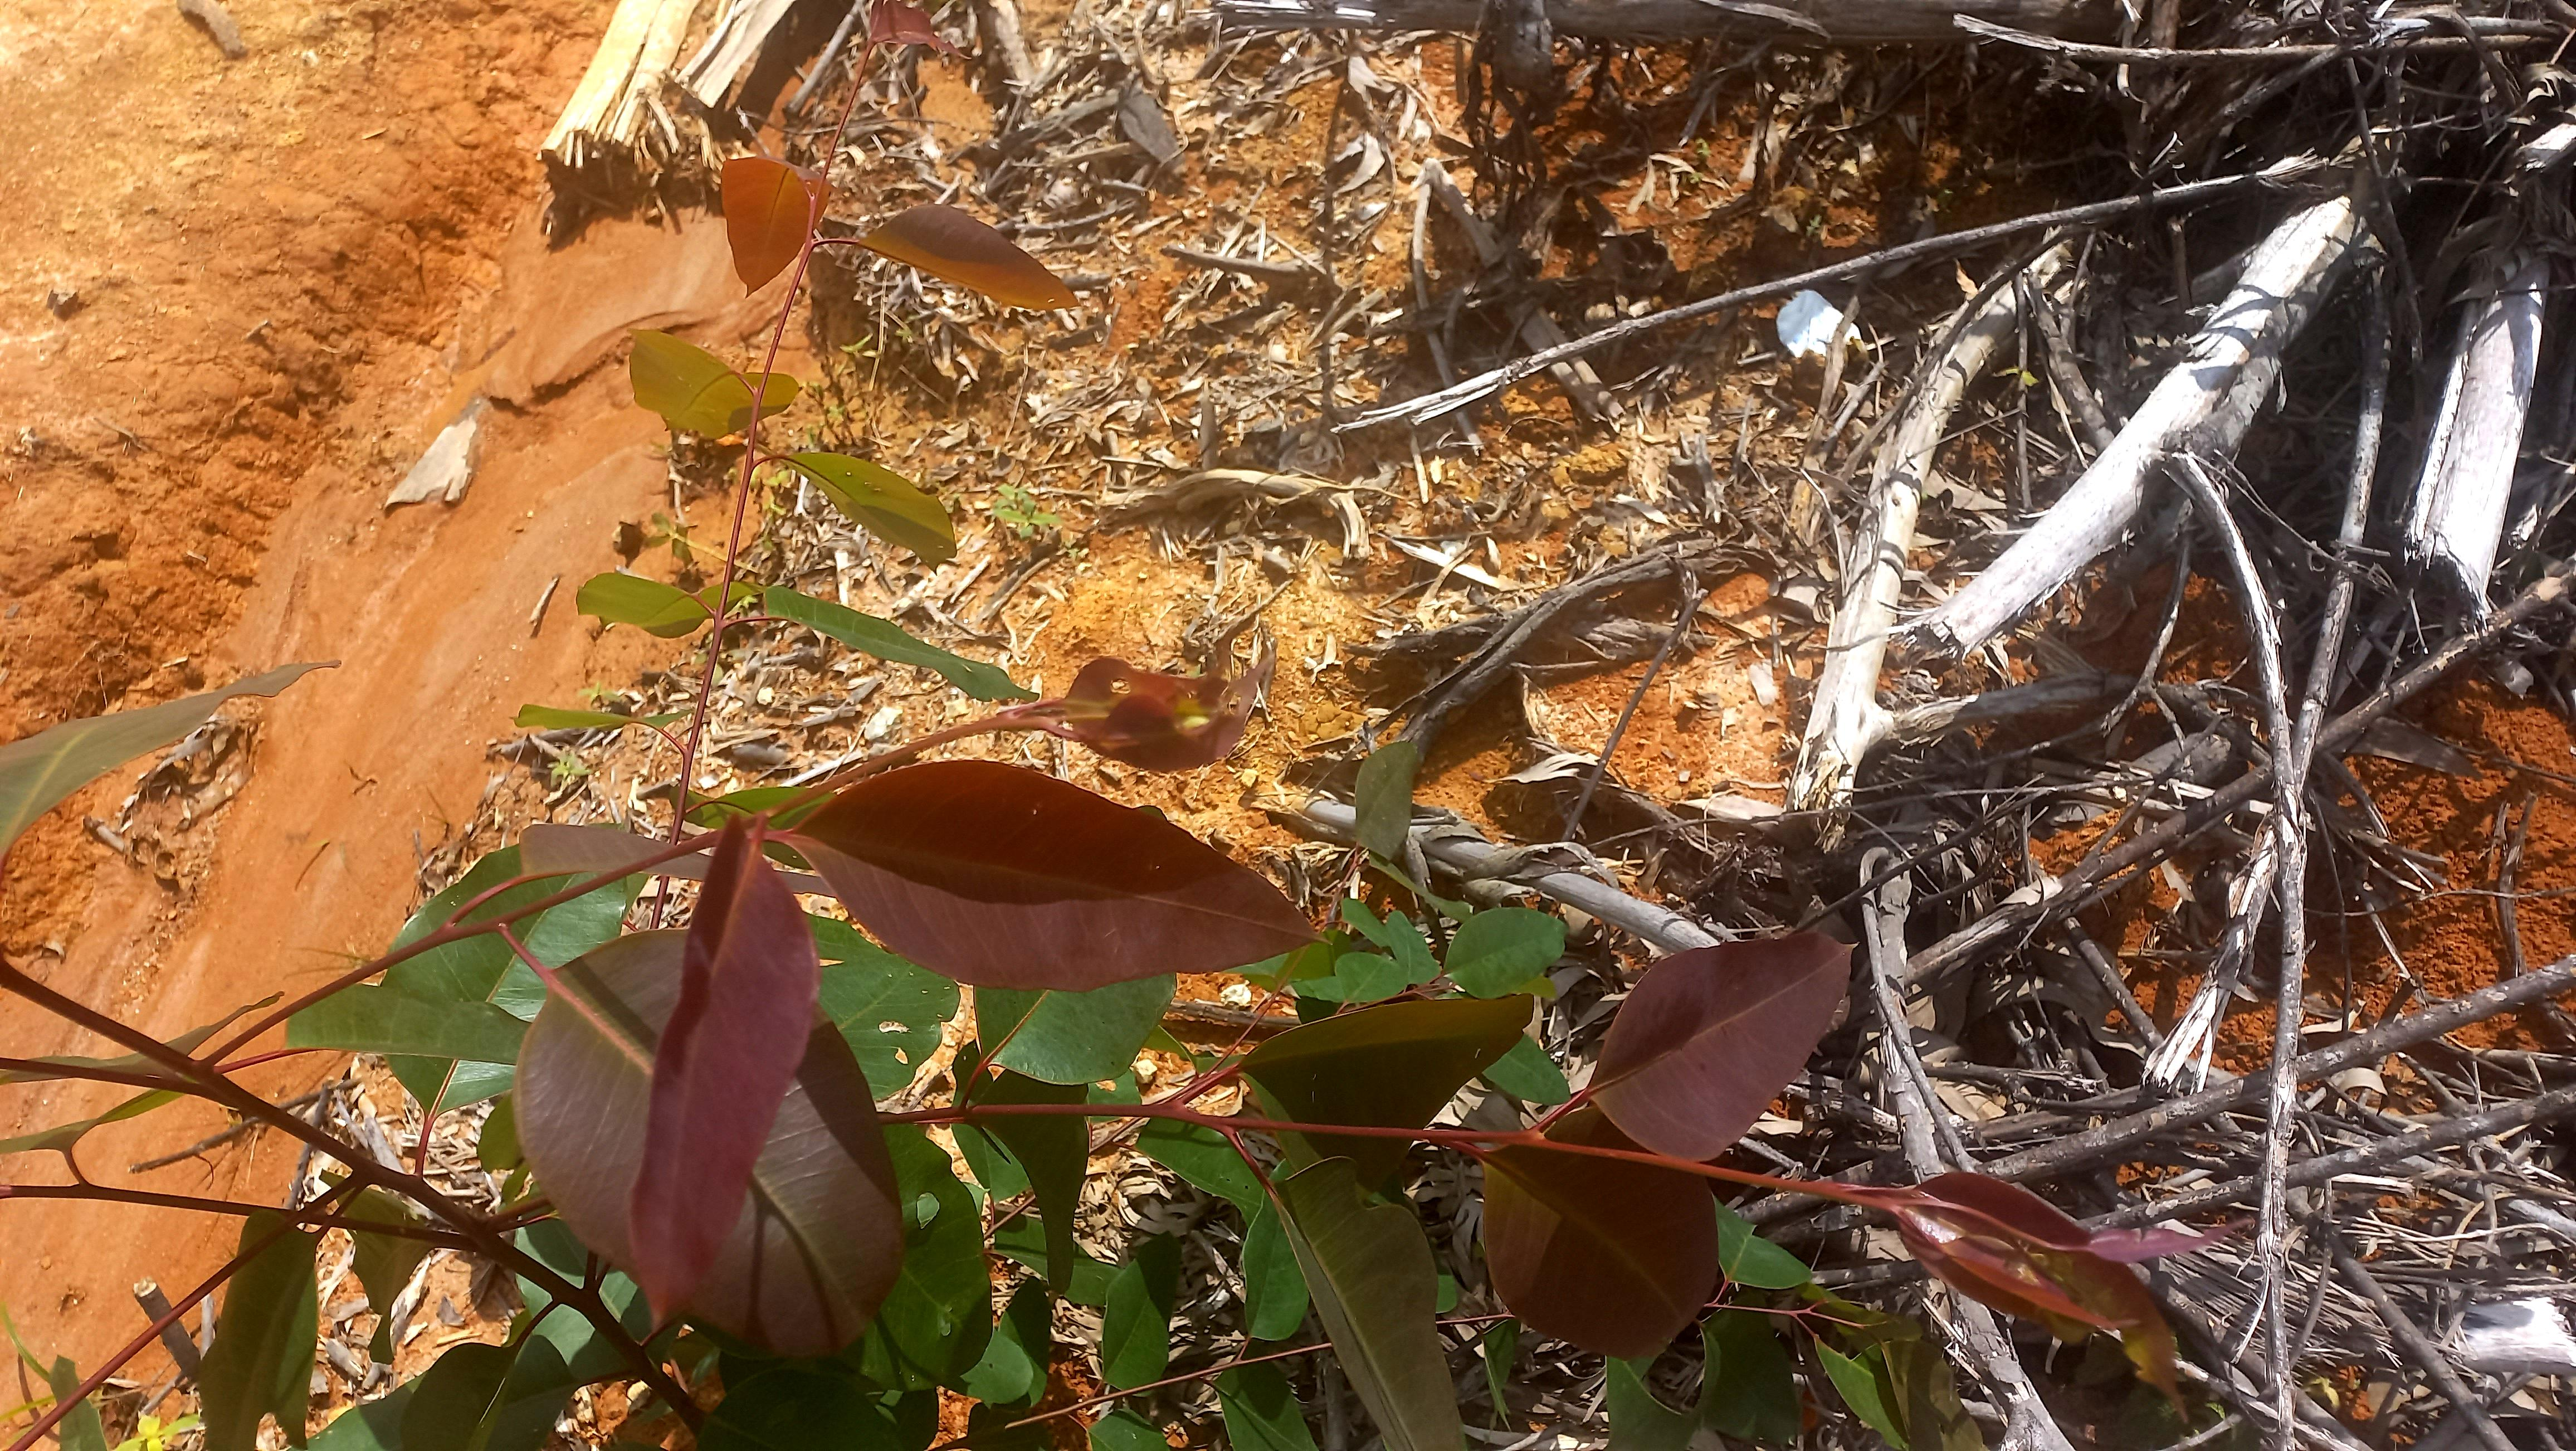Leaf Roller - Leaf: (1867, 1163, 2249, 1410), (1054, 612, 1284, 795)
